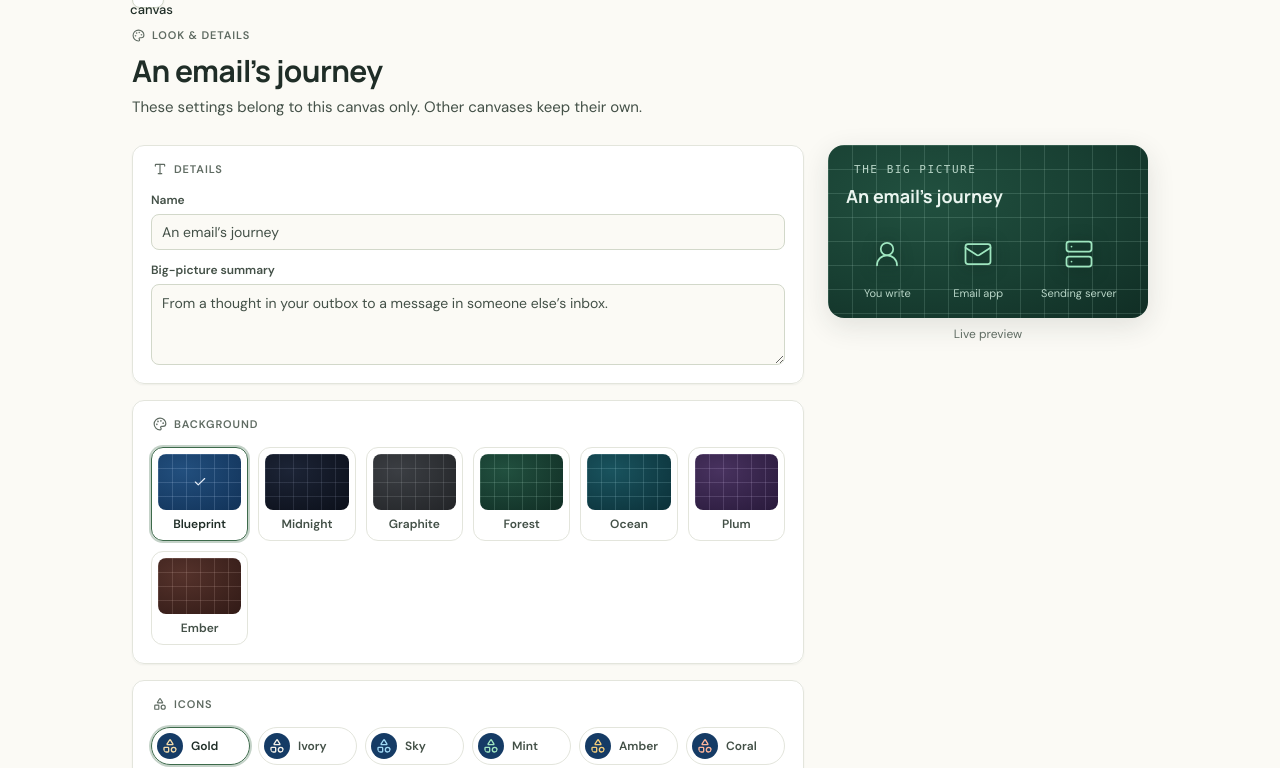
Scenario: canvas colours › saves the background and icon colour to this canvas and resets them
Click the button "Forest": (522, 494) x1=473 y1=447 x2=570 y2=541
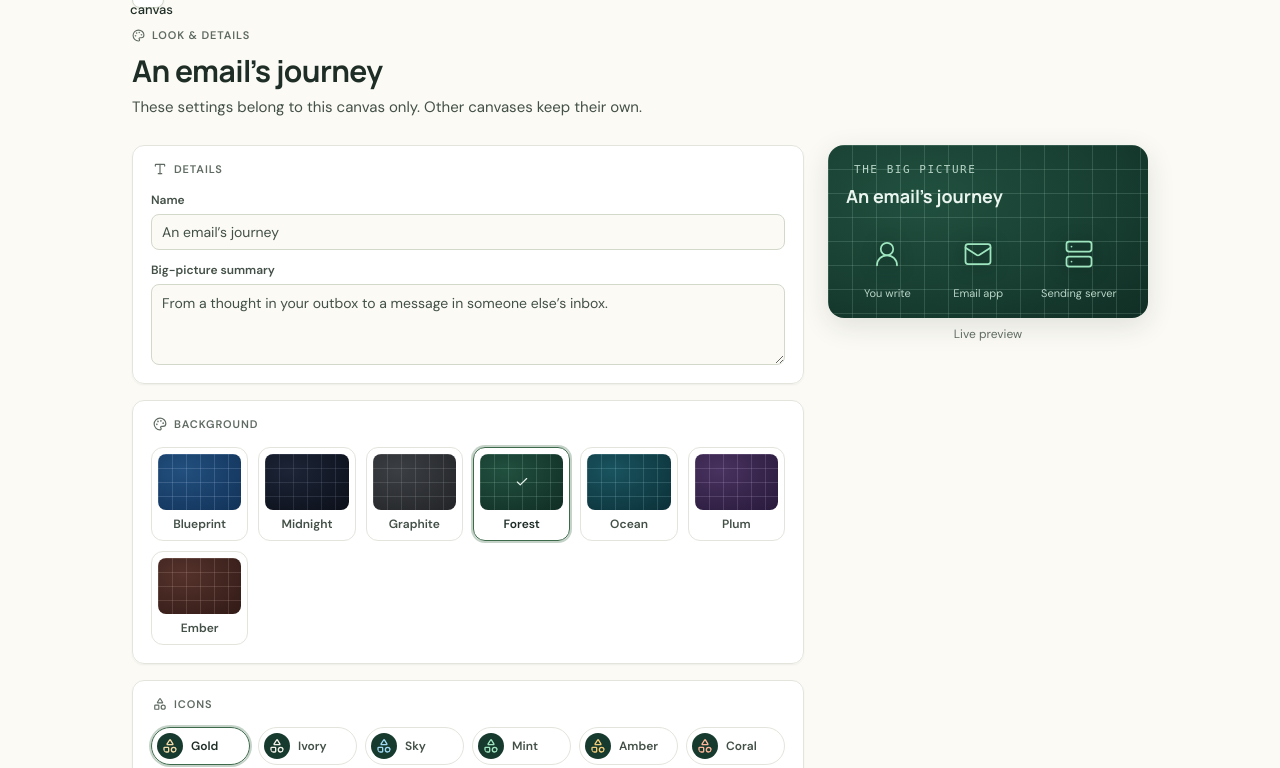
Click the button "Mint": (522, 746) x1=472 y1=727 x2=571 y2=765
(page scrolled)
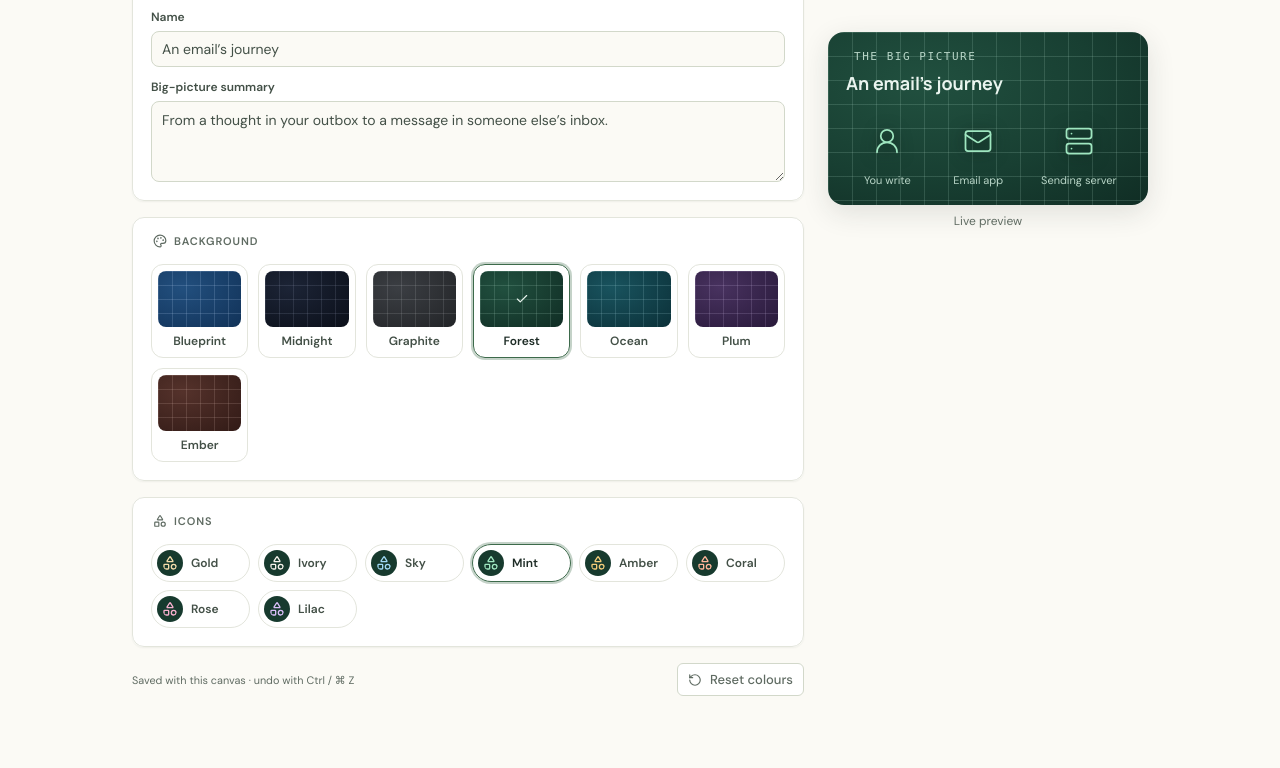
Now the button "Forest" is pressed, box x1=473 y1=264 x2=570 y2=358
Click the button "Reset colours": (740, 680) x1=677 y1=663 x2=804 y2=696
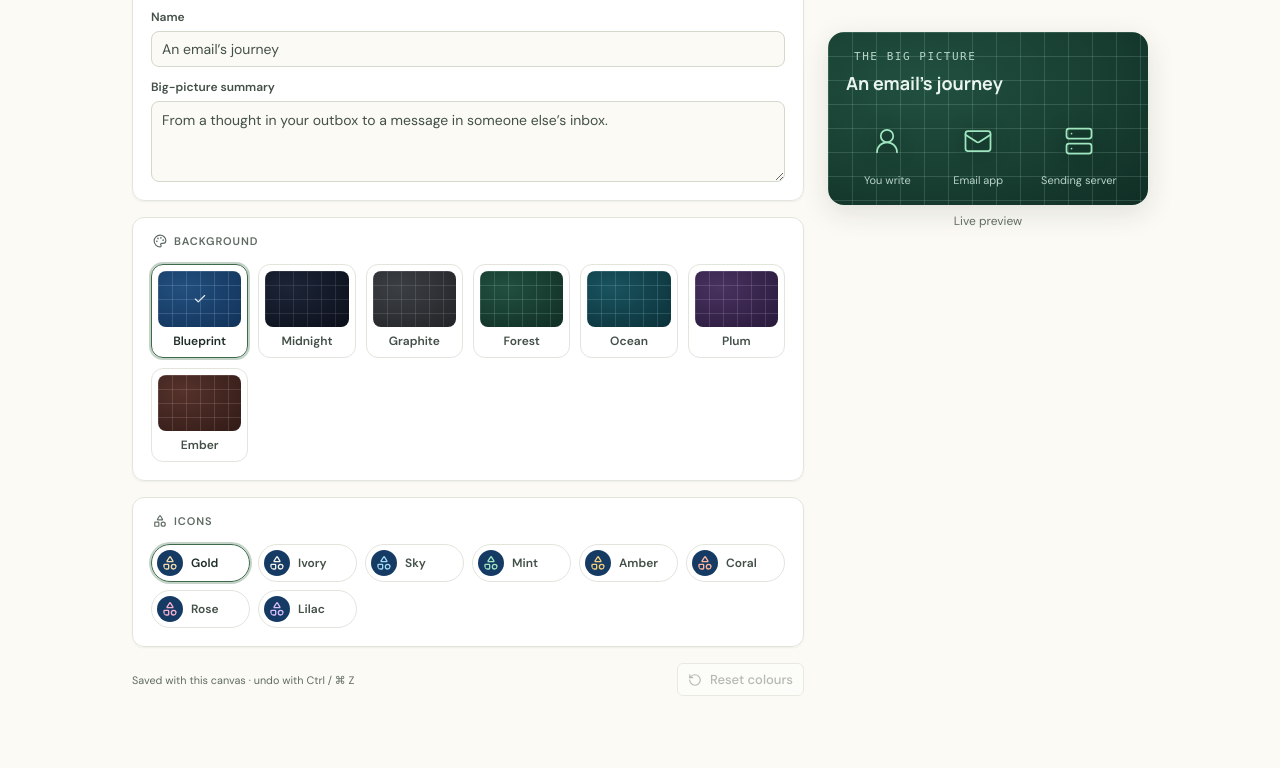
Now the button "Reset colours" is disabled, box x1=677 y1=663 x2=804 y2=696
